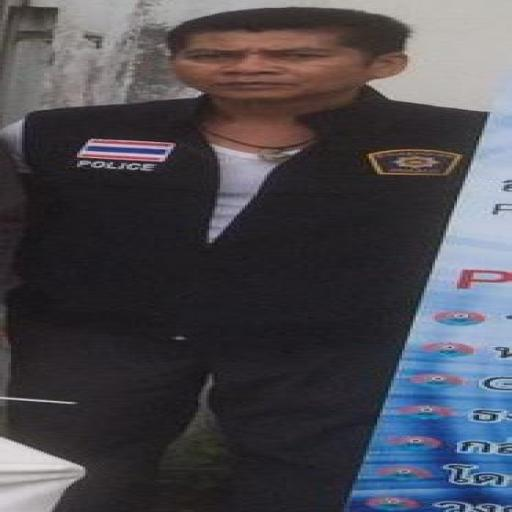person: (9, 8, 484, 511)
